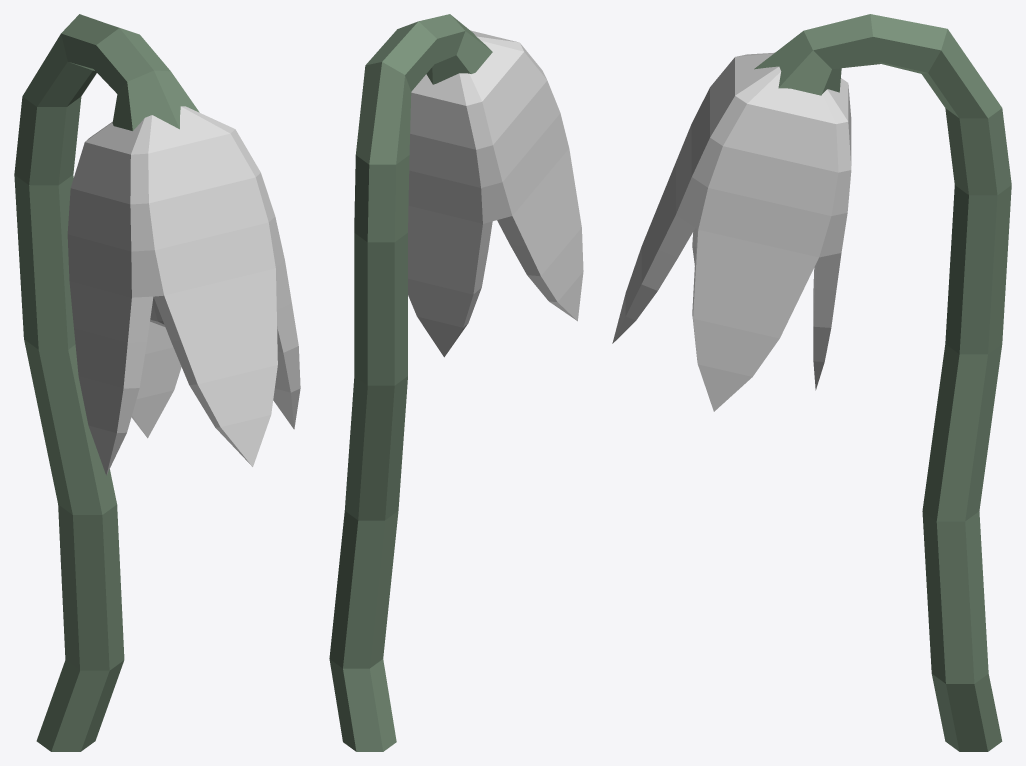
Rendered from Flower_4_White.fbx.
The picture shows the model from 3 angles, left to right: view 1: azimuth 30°, elevation 25°; view 2: azimuth 150°, elevation 25°; view 3: azimuth 270°, elevation 25°; orthographic projection. The views are drawn at different scales.
Visible parts, largest first — view 1: Flower_4_White_Part_2, Flower_4_White_Part_1; view 2: Flower_4_White_Part_1, Flower_4_White_Part_2; view 3: Flower_4_White_Part_1, Flower_4_White_Part_2.
Boxes of the visible parts, x1=… form: Flower_4_White_Part_2: x1=67, y1=106, x2=300, y2=475; Flower_4_White_Part_1: x1=14, y1=14, x2=199, y2=751; Flower_4_White_Part_1: x1=329, y1=14, x2=492, y2=751; Flower_4_White_Part_2: x1=408, y1=30, x2=583, y2=357; Flower_4_White_Part_1: x1=754, y1=14, x2=1011, y2=751; Flower_4_White_Part_2: x1=612, y1=52, x2=851, y2=411.
Size of the model in its own units: 10.62 by 40.62 by 20.22.
